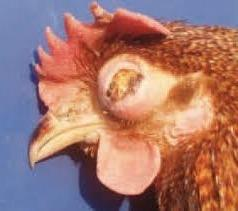AbNormal: (31, 2, 167, 86)
